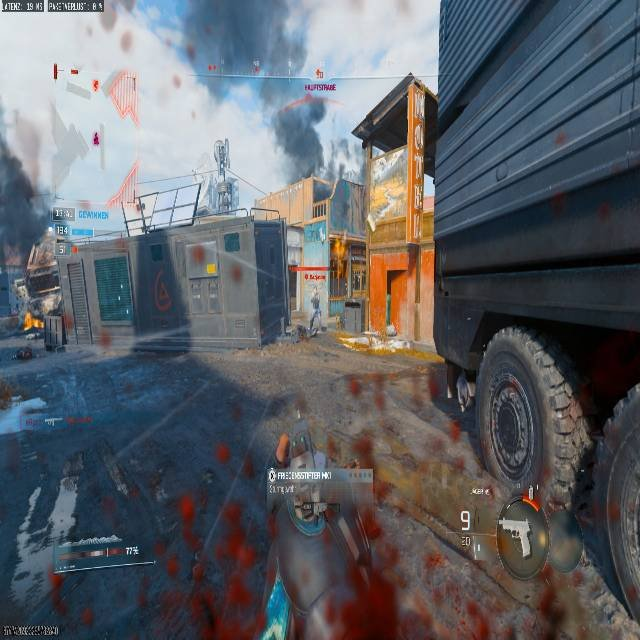player: (20, 222, 72, 356), (309, 287, 322, 334)
